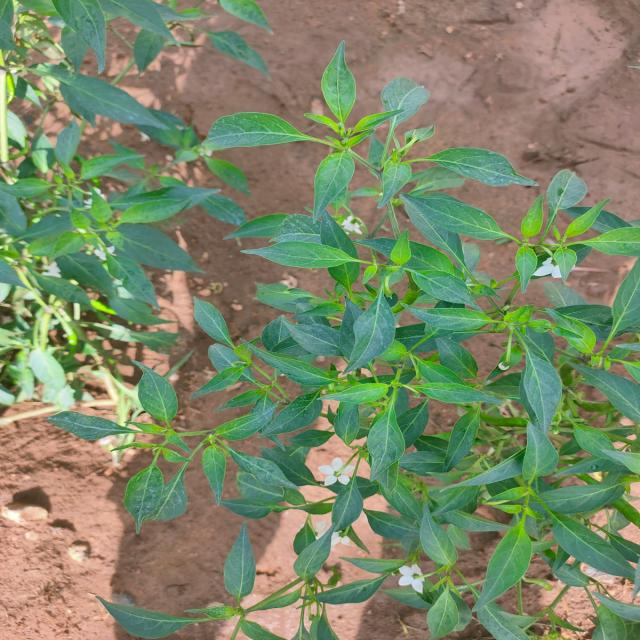Mosaic_virus: (224, 42, 640, 640), (0, 0, 226, 449)
